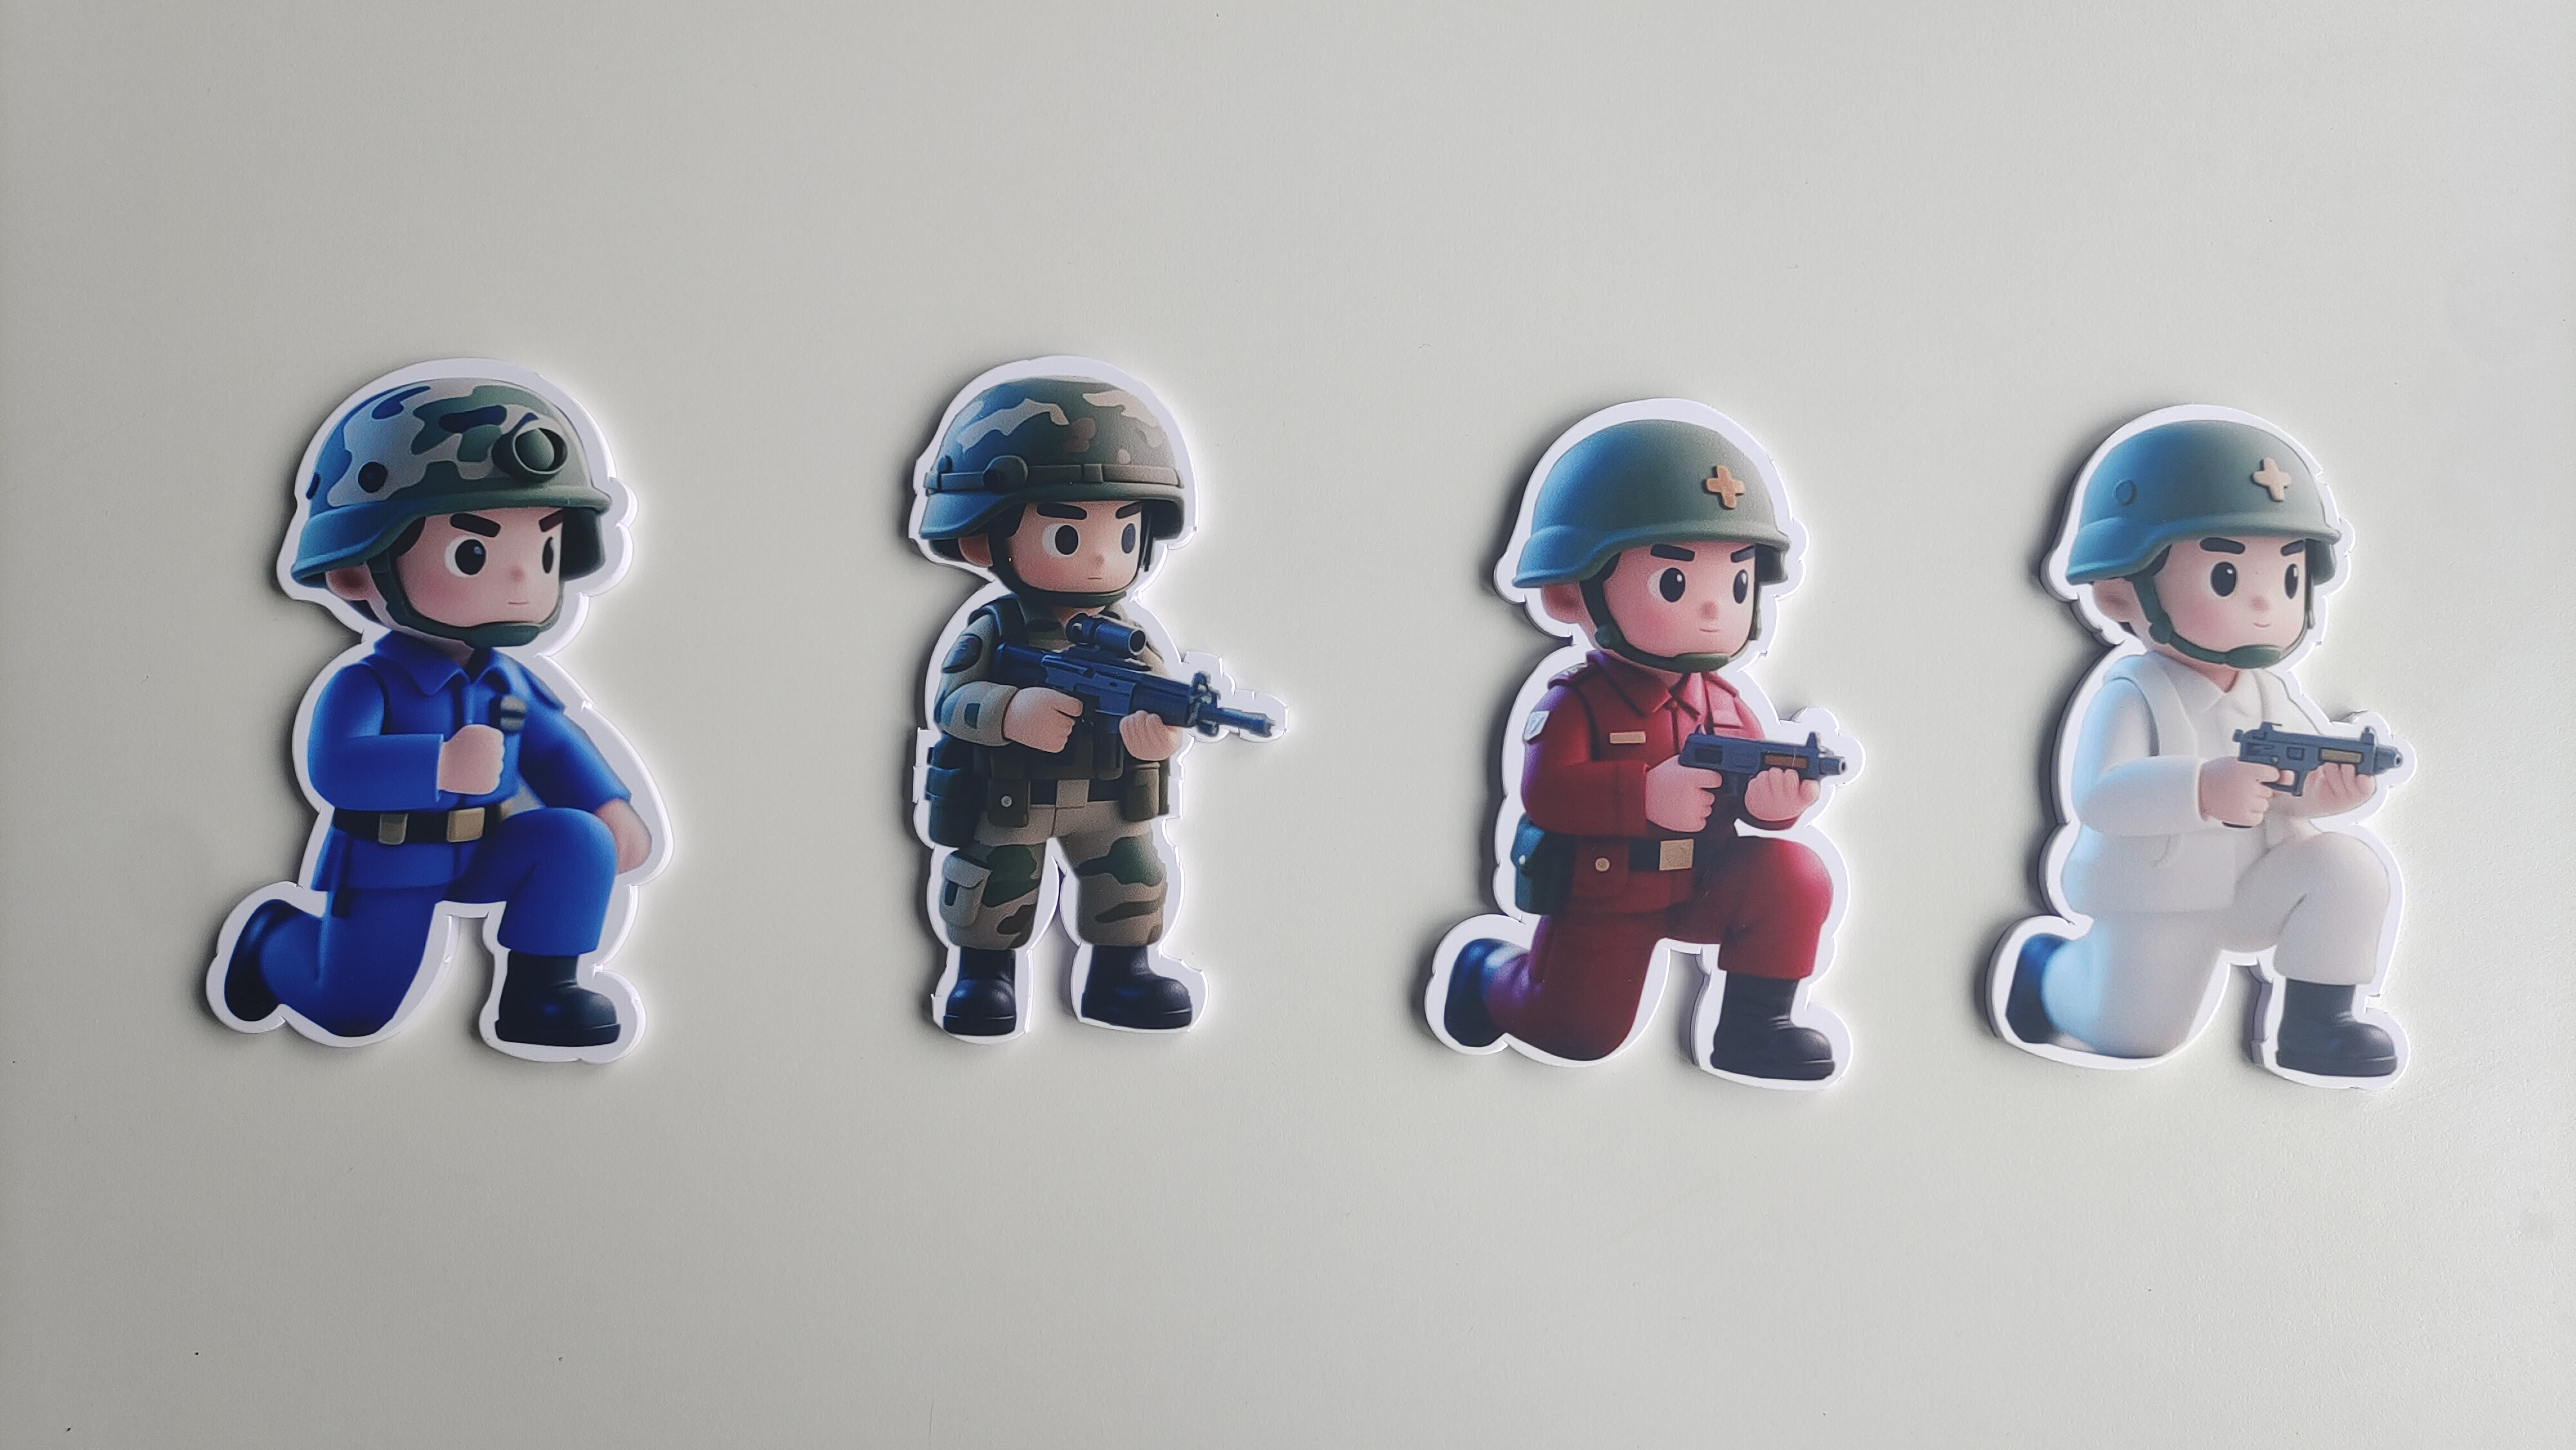enemy1: (1419, 663, 1859, 1107)
enemy2: (184, 658, 667, 1077)
friend: (904, 592, 1221, 1061)
hostage: (1971, 667, 2424, 1107)
